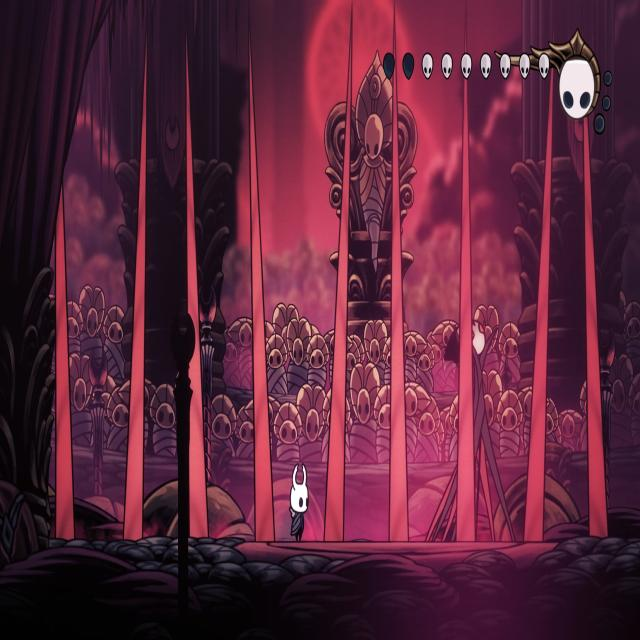Fire Bat: (586, 108, 610, 545)
Player: (286, 457, 311, 544)
Spikes: (250, 92, 277, 543), (322, 138, 351, 546), (524, 138, 552, 539), (122, 122, 146, 544), (184, 121, 208, 539), (454, 107, 477, 543), (389, 123, 411, 542), (52, 172, 76, 538)
